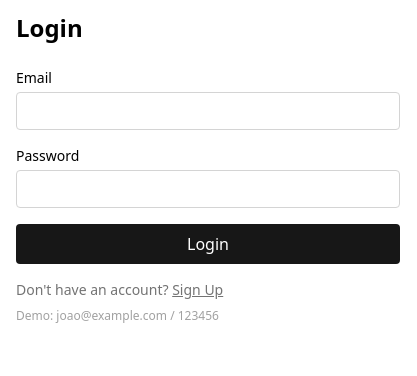
Test: LoginView › shows the error and stays on the page when the password is wrong
Type "joao@example.com" into the field labelled "Email" at (208, 111), box [16,92,400,130]
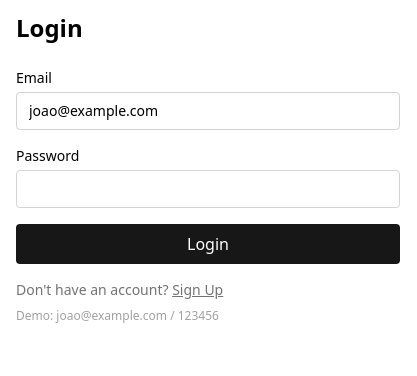
Type "wrong" into the password field labelled "Password" at (208, 189), box [16,170,400,208]
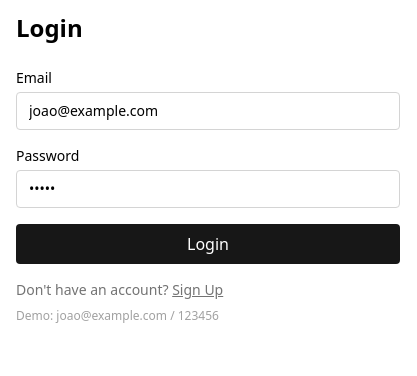
Submit the form, box [16,68,400,264]
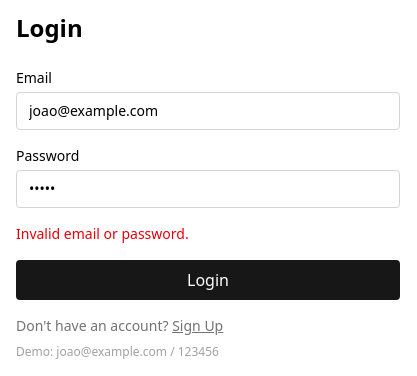
Check: the text "Invalid email or password." is shown, box [16,224,189,243]
